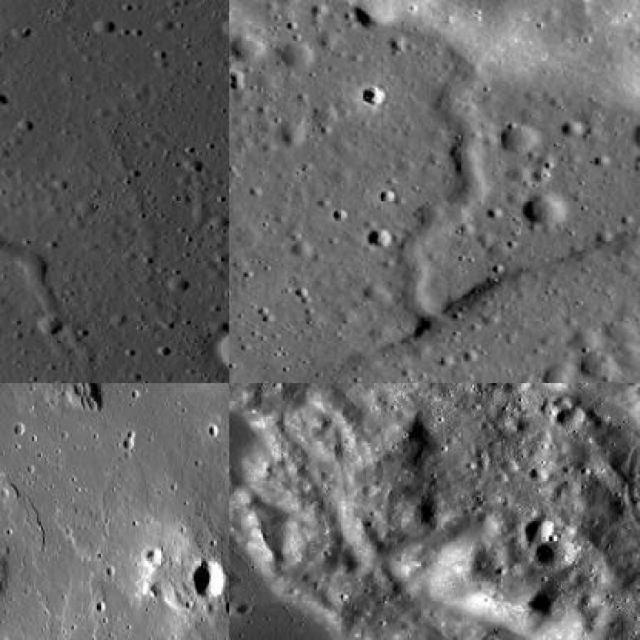rille: (0, 422, 228, 638), (395, 57, 488, 331), (229, 383, 382, 523), (0, 182, 86, 369)
